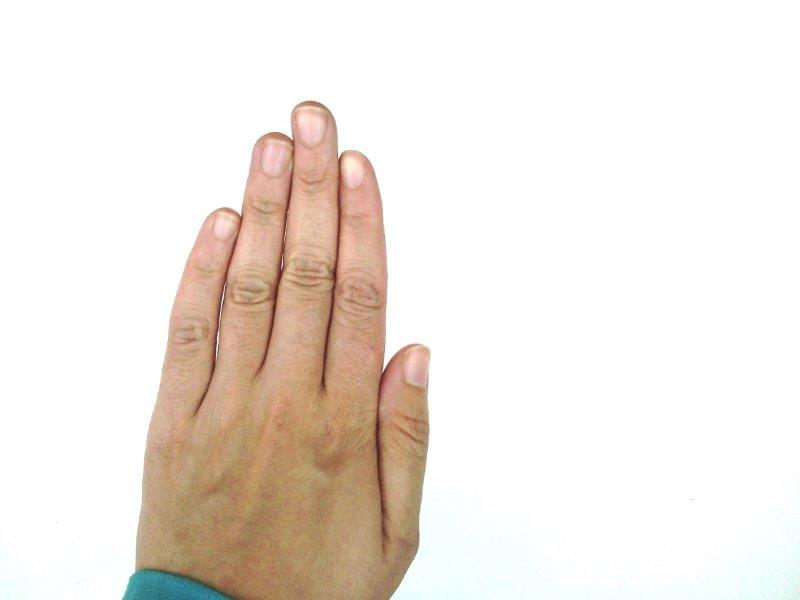hand: (139, 102, 430, 597)
